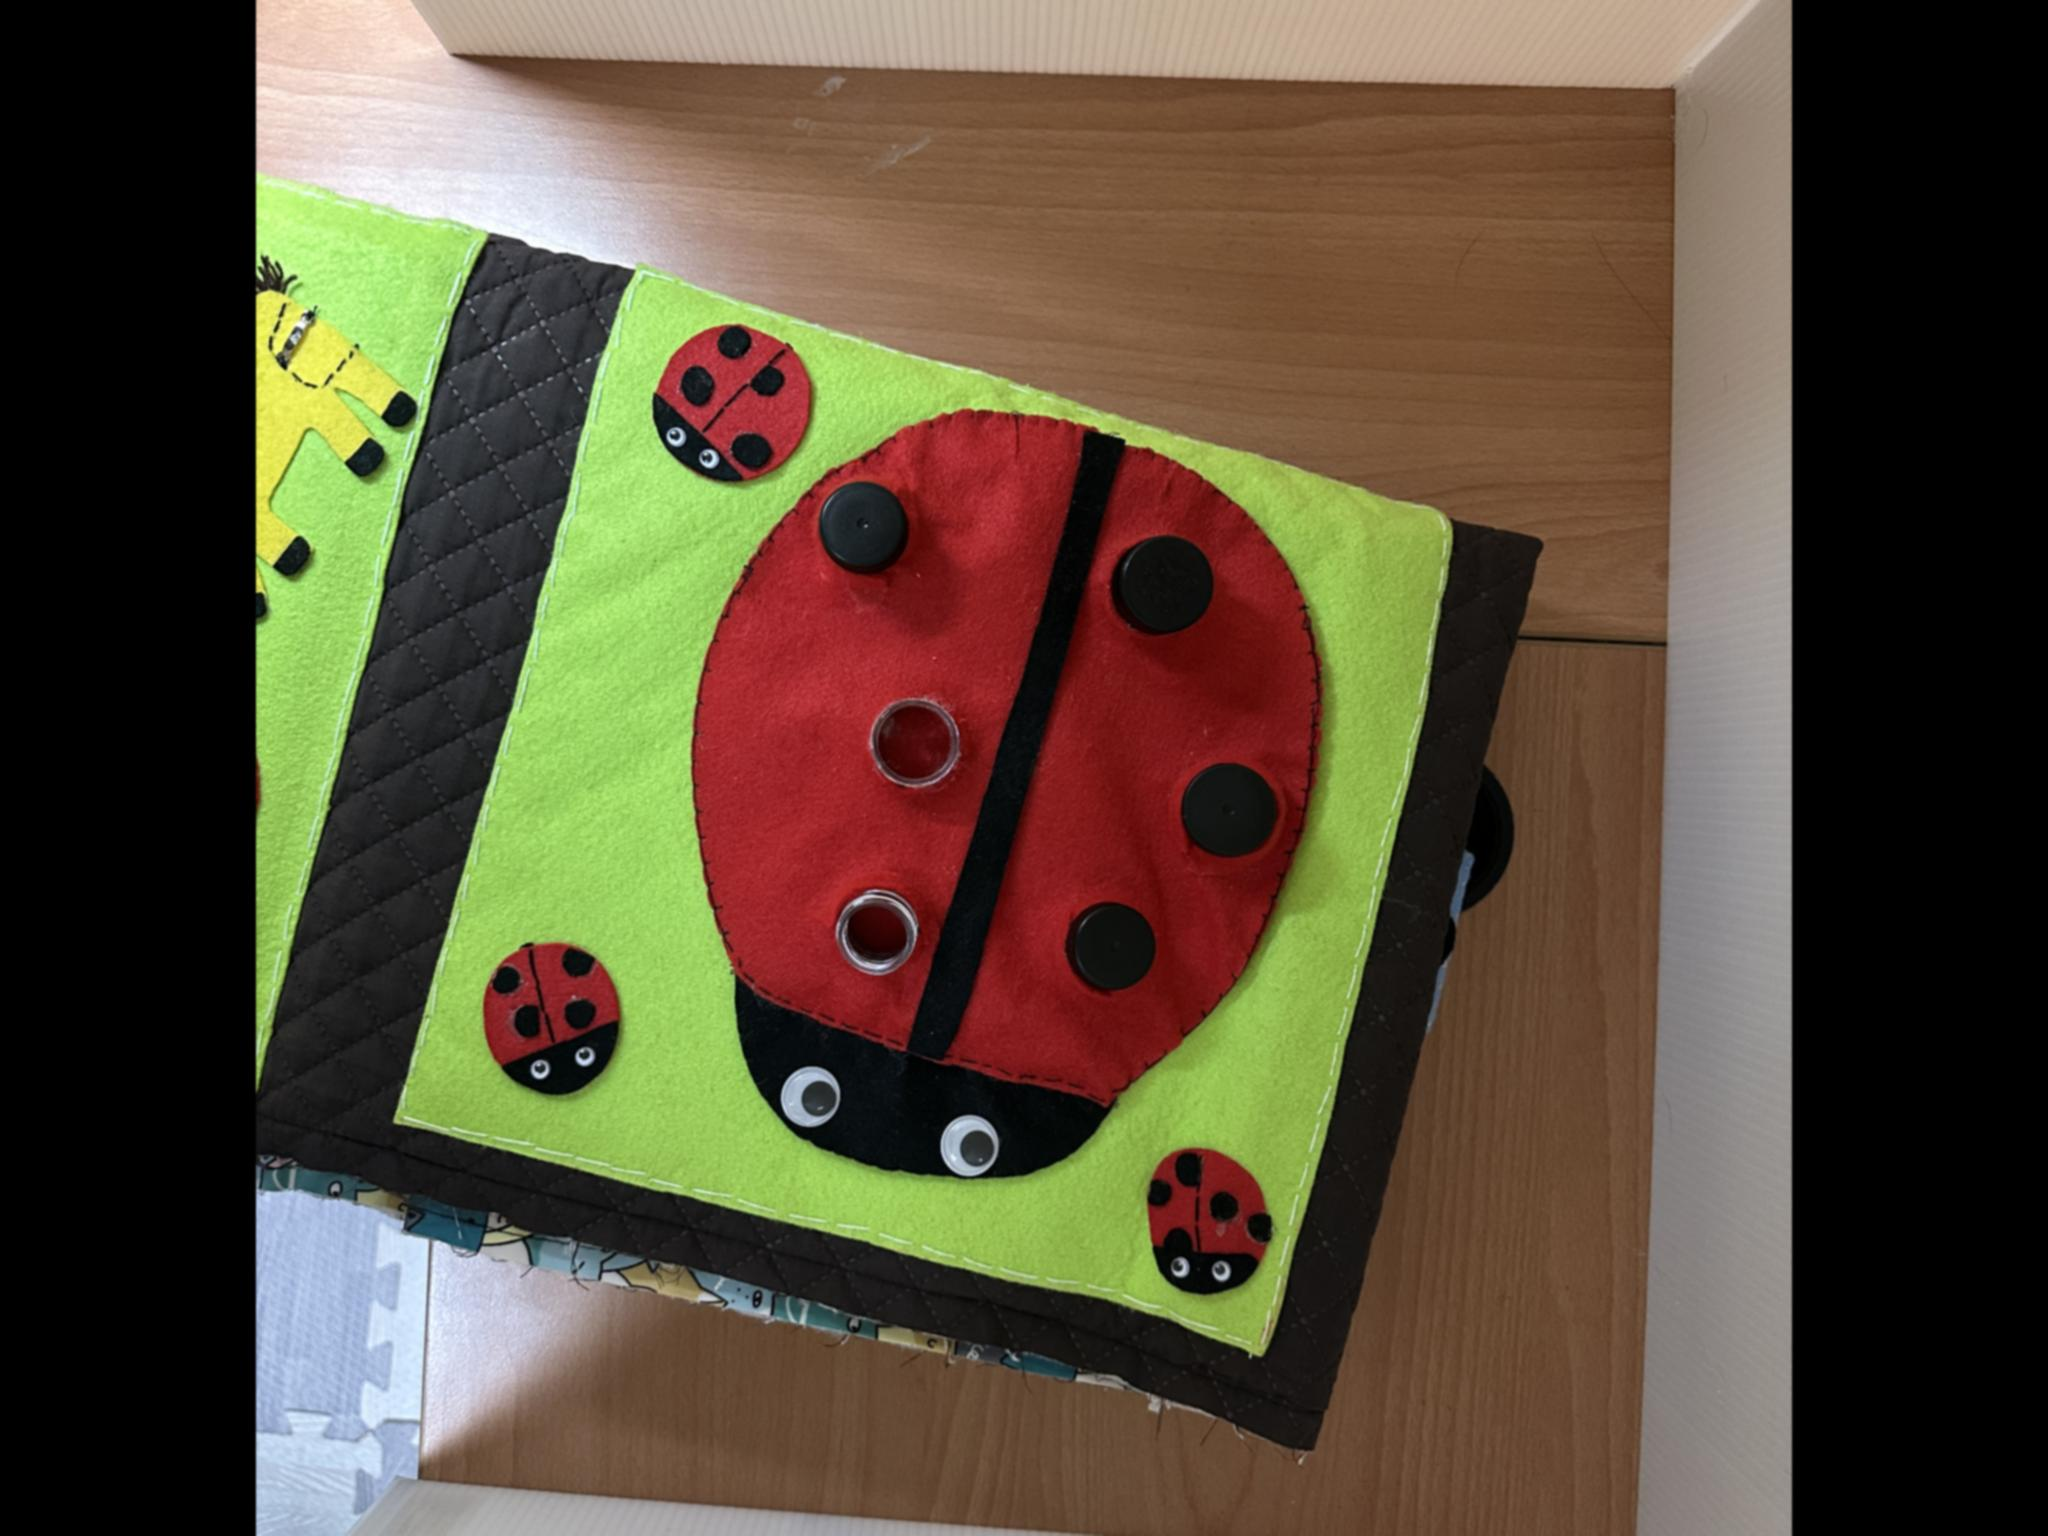cap_ok: (1166, 728, 1297, 883), (1090, 511, 1229, 649), (1043, 886, 1168, 1002), (798, 465, 916, 579)
